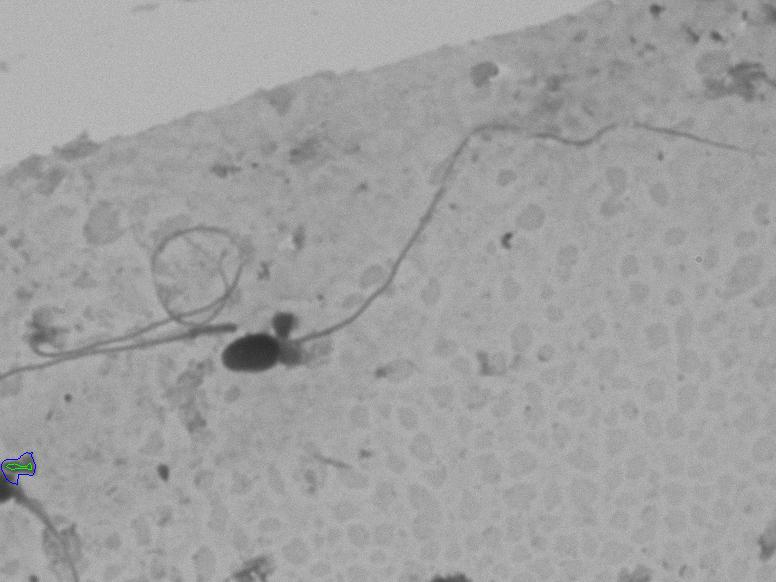Abnormal: (221, 95, 724, 396)
